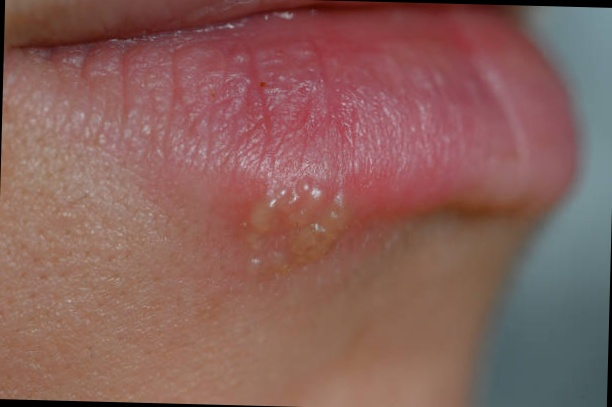Ulcer: (241, 180, 349, 275)
